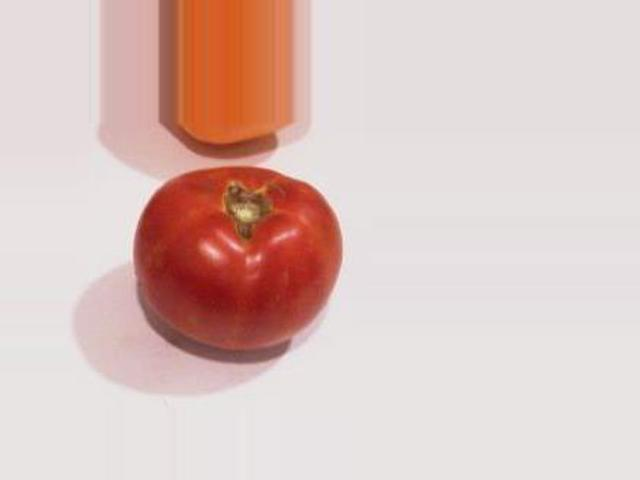tomato: (136, 167, 342, 347)
